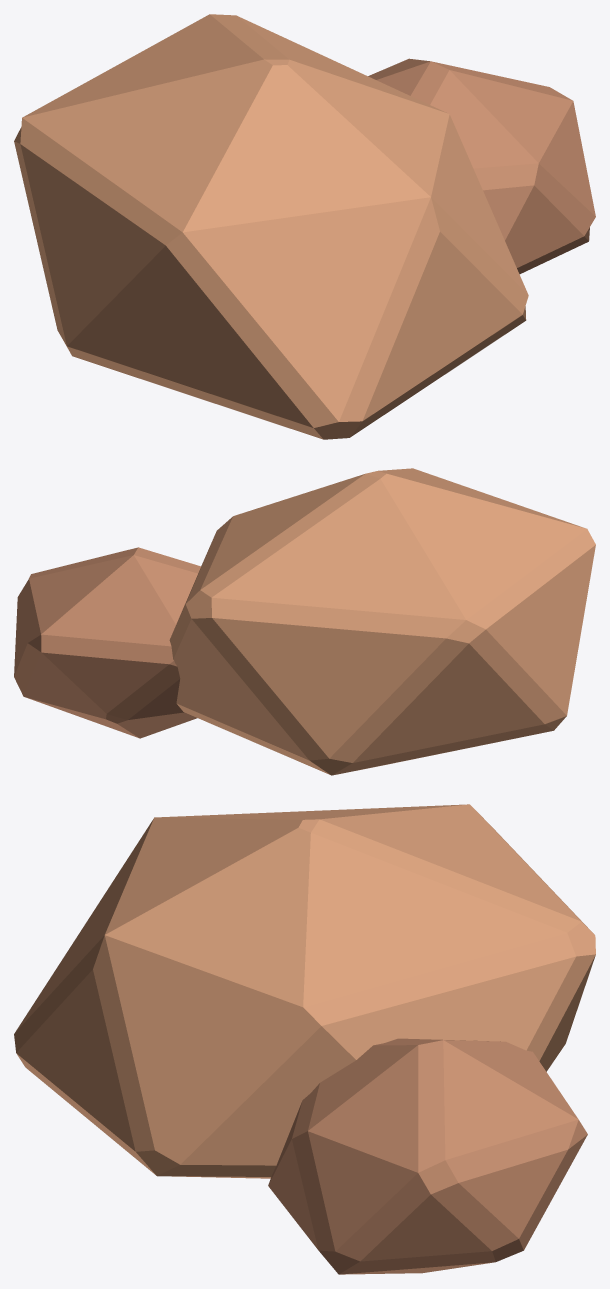
3 renders of one model, top to bottom at view 1: azimuth 30°, elevation 25°; view 2: azimuth 150°, elevation 25°; view 3: azimuth 270°, elevation 25°, orthographic. The views are drawn at different scales.
Parts seen in each view (by area): view 1: DesertRock; view 2: DesertRock; view 3: DesertRock.
Part boxes in pixels (x1,y1,x2,y2): DesertRock: (14,14,595,439); DesertRock: (14,468,595,775); DesertRock: (14,804,595,1274).
Size of the model in its own units: 0.5698 by 0.3205 by 0.4823.
